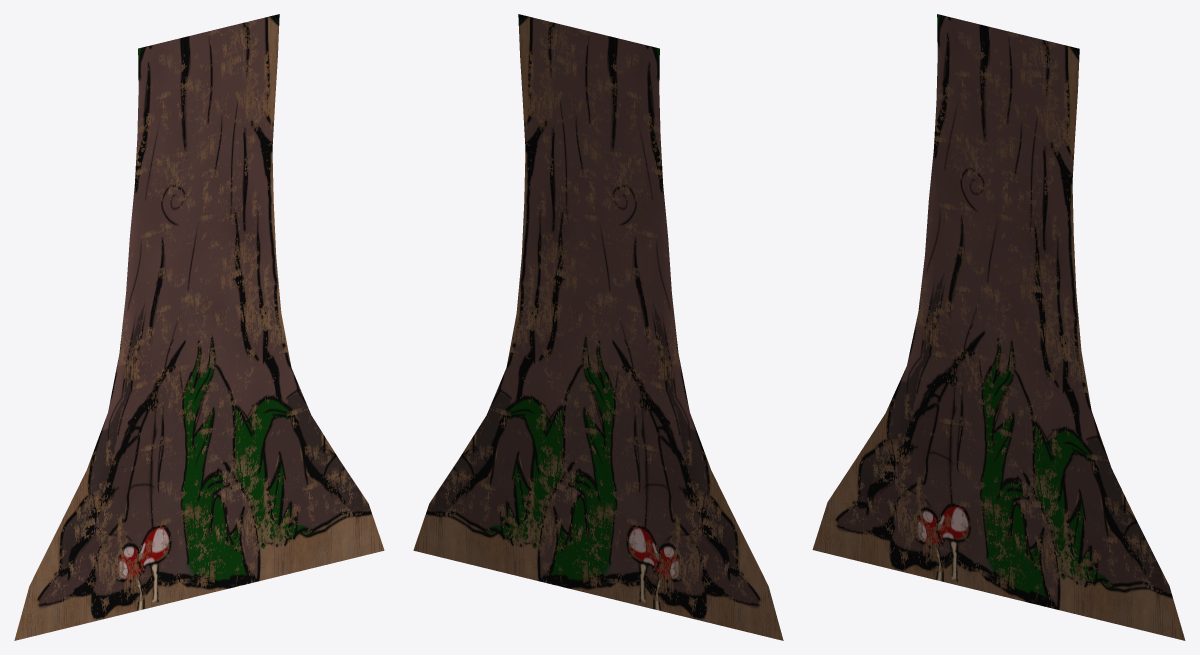
File: ArbolesFondo_Atras.fbx
3 renders of one model, left to right at view 1: azimuth 30°, elevation 25°; view 2: azimuth 150°, elevation 25°; view 3: azimuth 330°, elevation 25°, orthographic.
Parts seen in each view (by area): view 1: Arbol_05; view 2: Arbol_05; view 3: Arbol_05.
Part boxes in pixels (x1,y1,x2,y2): Arbol_05: [14, 14, 384, 640]; Arbol_05: [413, 14, 783, 640]; Arbol_05: [812, 14, 1185, 640].
Size of the model in its own units: 492 by 714 by 3.12e-05.
1 material, 1 textured.
